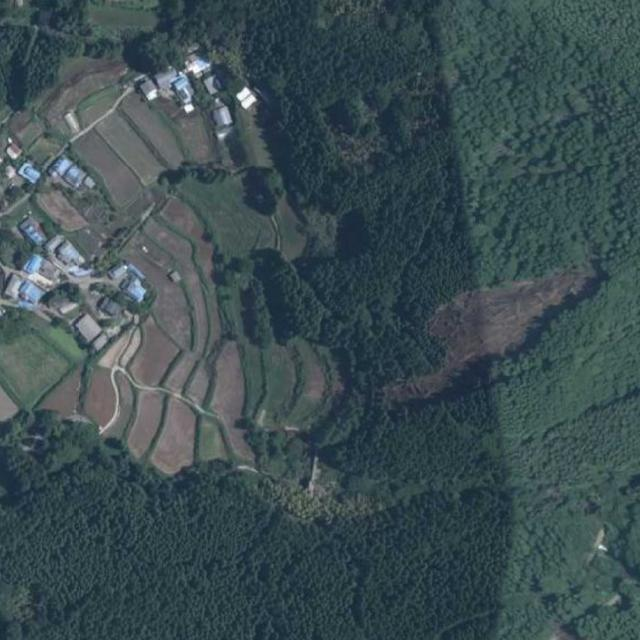landslide: (387, 271, 597, 401)
